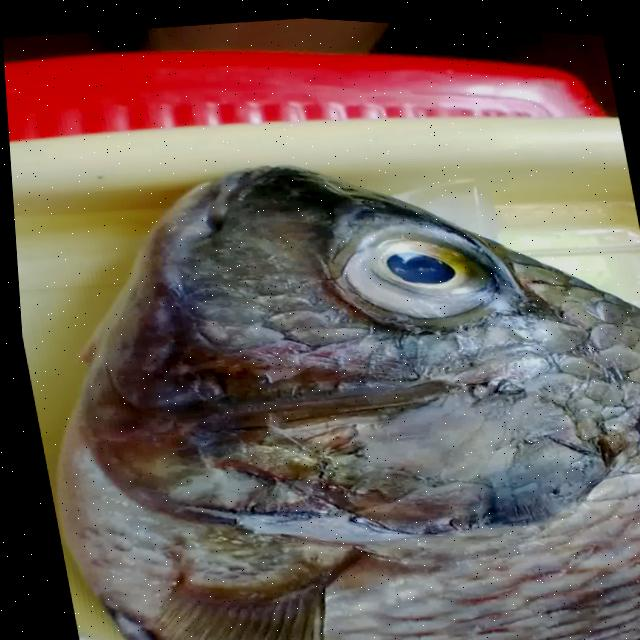Fresh: (301, 191, 529, 353)
